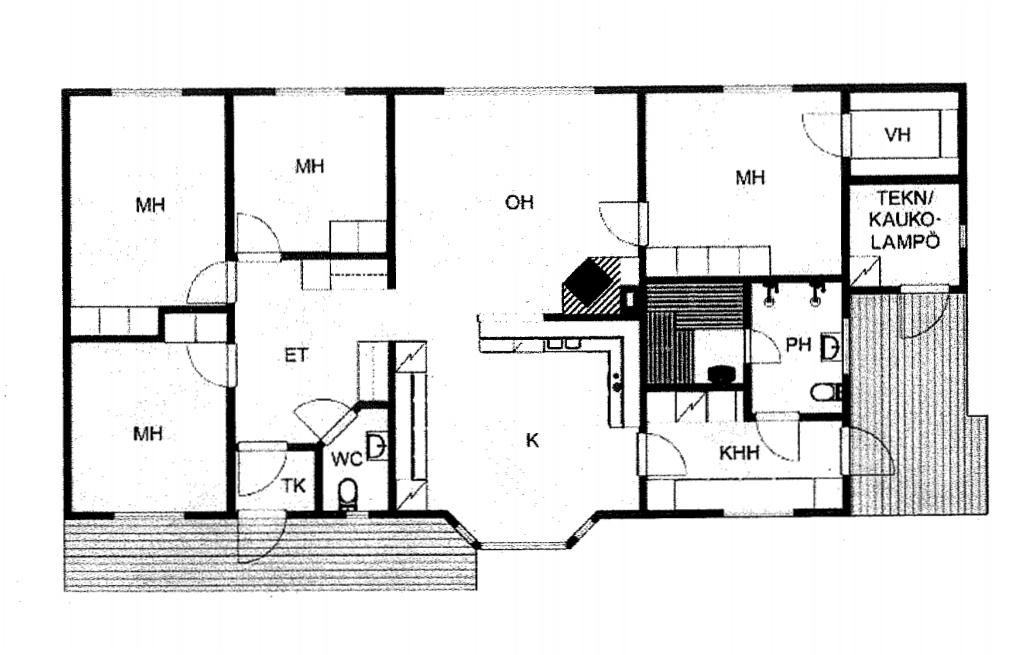bathroom: (752, 274, 841, 415), (320, 407, 390, 510)
door: (894, 282, 951, 344), (837, 425, 900, 480), (235, 506, 288, 569), (292, 394, 355, 447), (235, 439, 291, 498), (799, 109, 858, 161), (631, 428, 688, 481), (753, 408, 805, 466), (181, 258, 242, 305), (594, 199, 649, 249), (185, 343, 241, 391), (236, 209, 281, 265), (742, 327, 786, 366)
perimeter: (60, 86, 968, 555)
window: (437, 83, 603, 99), (476, 538, 574, 555), (108, 507, 190, 527), (714, 79, 800, 98), (267, 82, 354, 99), (714, 505, 798, 521), (102, 84, 189, 98), (566, 515, 601, 542), (838, 316, 852, 381), (450, 521, 477, 548), (955, 220, 971, 255), (343, 508, 374, 521)
